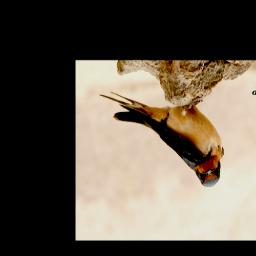Swallow: (99, 85, 225, 188)
